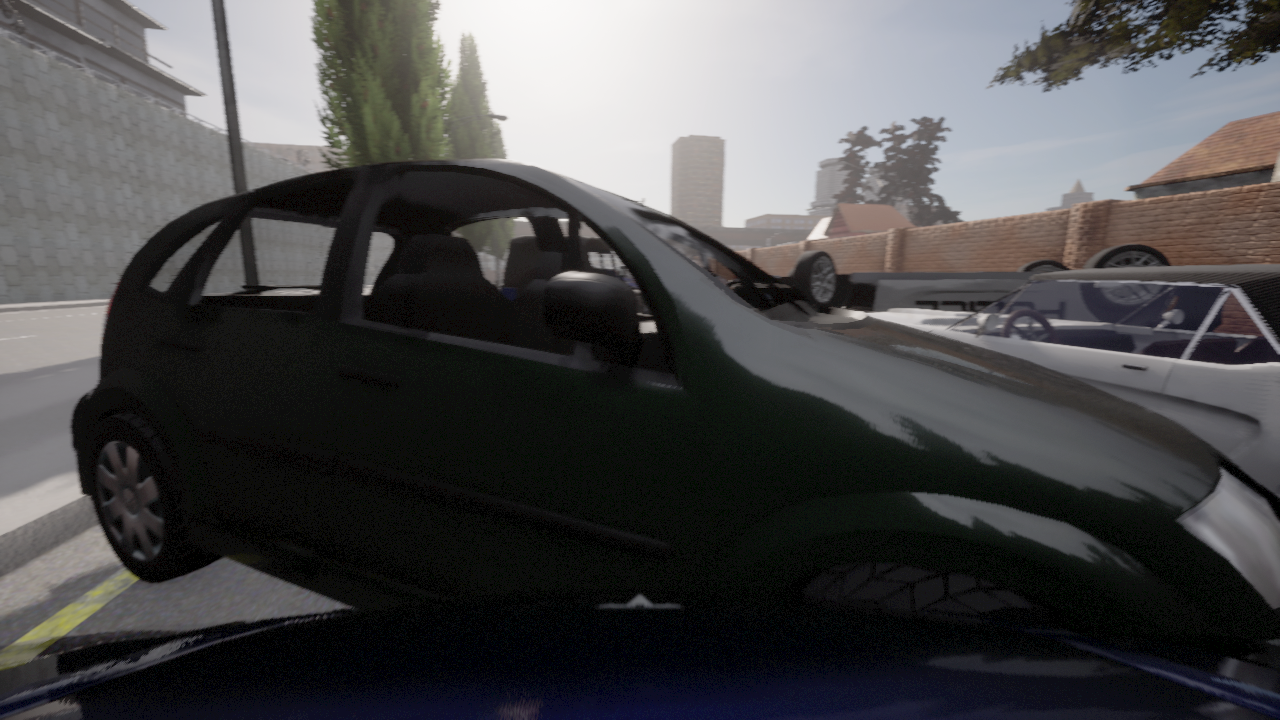cyclist: (70, 159, 1279, 644), (0, 588, 1279, 719), (858, 264, 1279, 497), (772, 244, 1170, 311)
